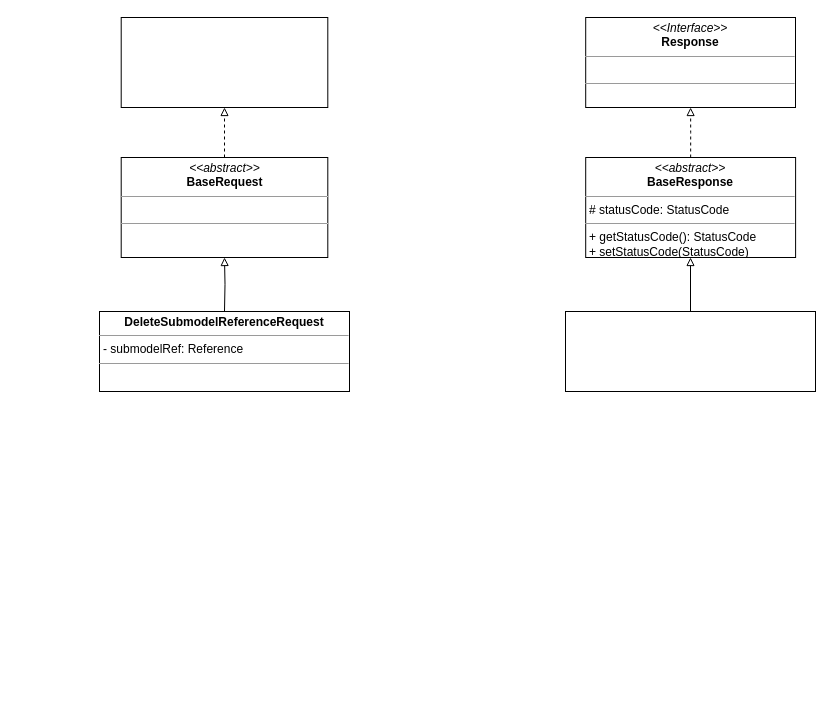
This 834x709 diagram has some shape labels left out. Here are the shapes that lost their labels. From the top down, the box of each, then its label:
(120, 16, 328, 108): <<Interface>> Request
(564, 310, 816, 392): DeleteSubmodelRefrenceResponse
